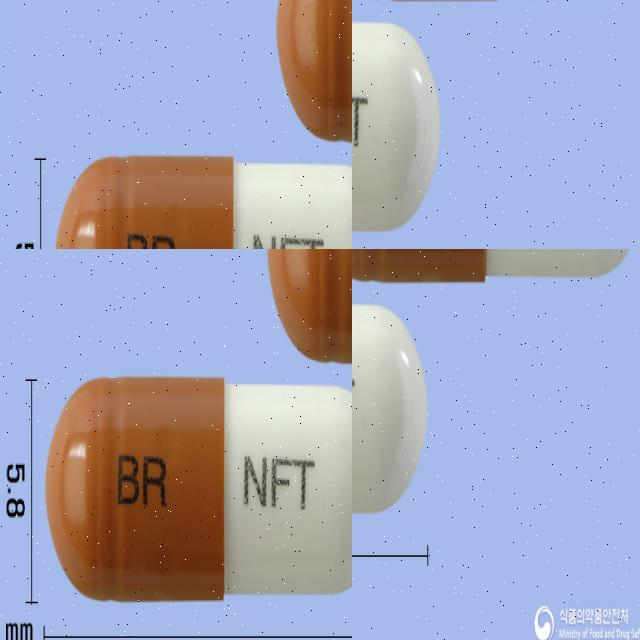Boryung Nitrofurantoin: (352, 291, 430, 526)
Cefac Cap: (134, 475, 352, 640)
Clad: (49, 128, 345, 249)
Diflucan Cap - 150mg: (352, 114, 438, 249)
